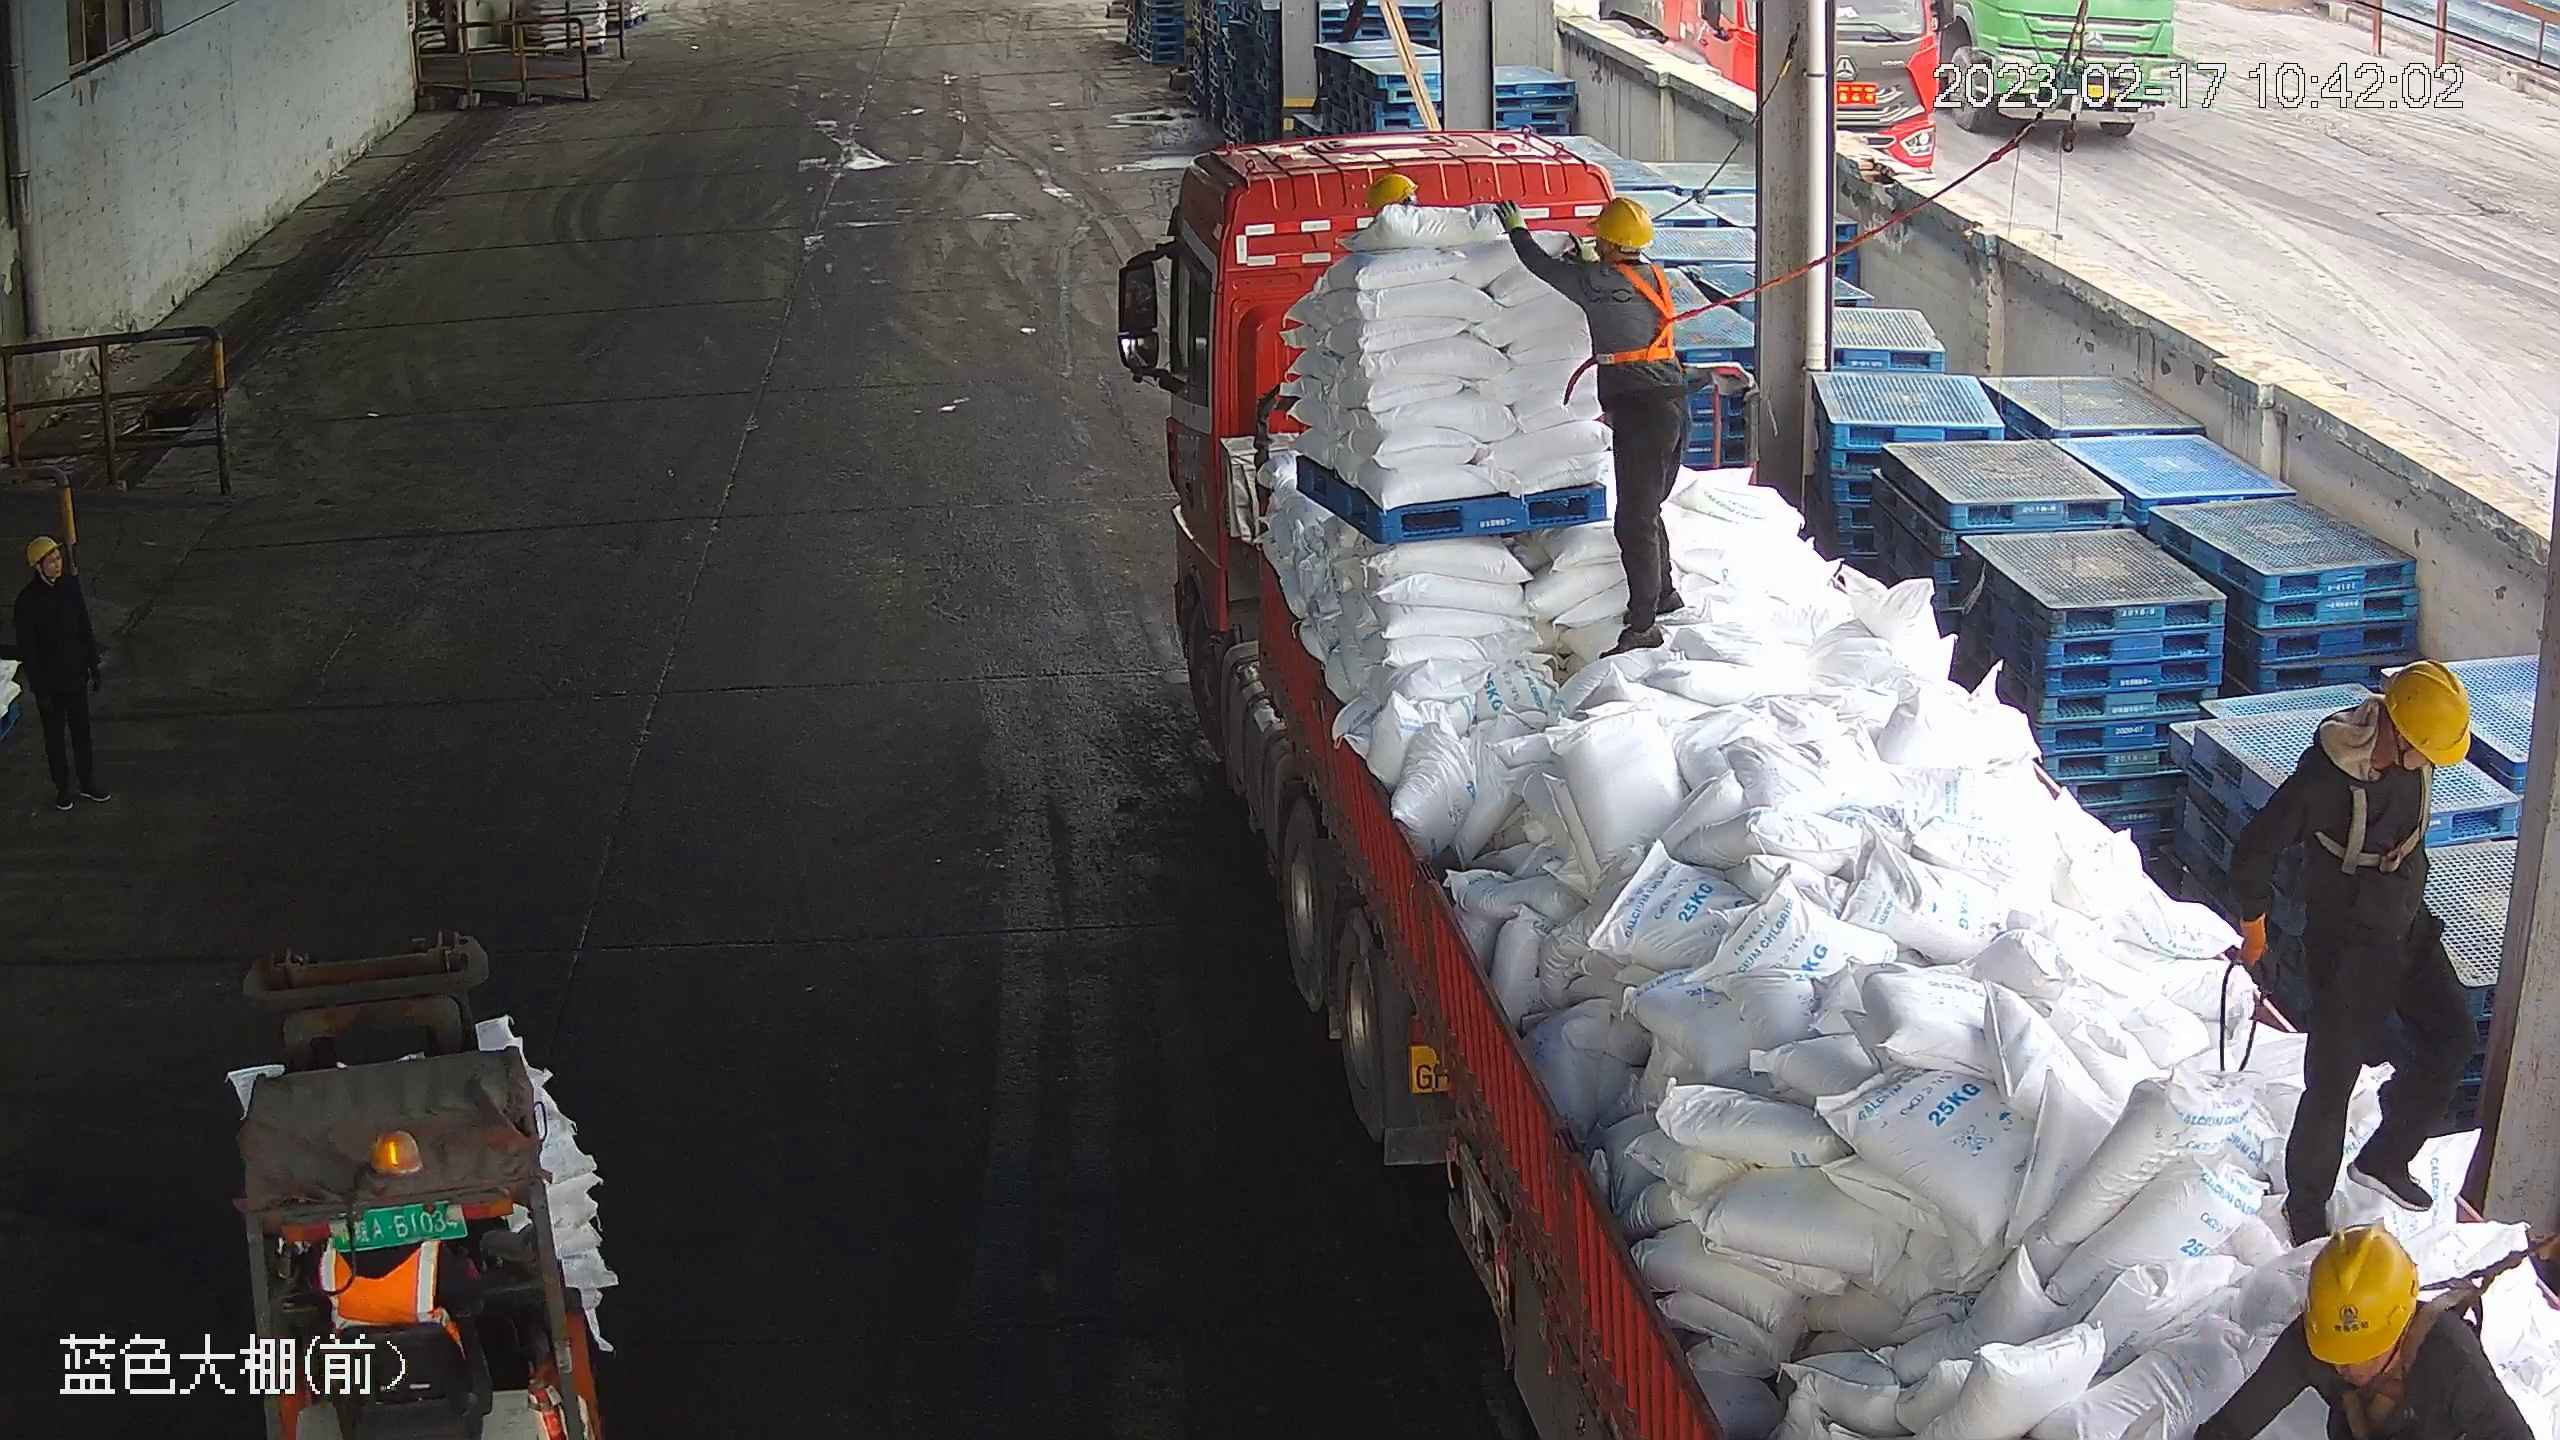belt: (2308, 1281, 2474, 1428), (2301, 727, 2439, 875), (1592, 257, 1707, 371)
head: (2232, 1215, 2509, 1430), (2273, 655, 2470, 842), (1571, 196, 1686, 332), (12, 534, 91, 618)
helmet: (2301, 1221, 2418, 1362), (2379, 654, 2476, 768), (1587, 197, 1654, 246), (1365, 166, 1418, 205), (24, 535, 61, 565)
people: (2226, 656, 2488, 1248), (1495, 193, 1696, 662), (8, 533, 111, 812)
truck: (1118, 125, 2553, 1438)
